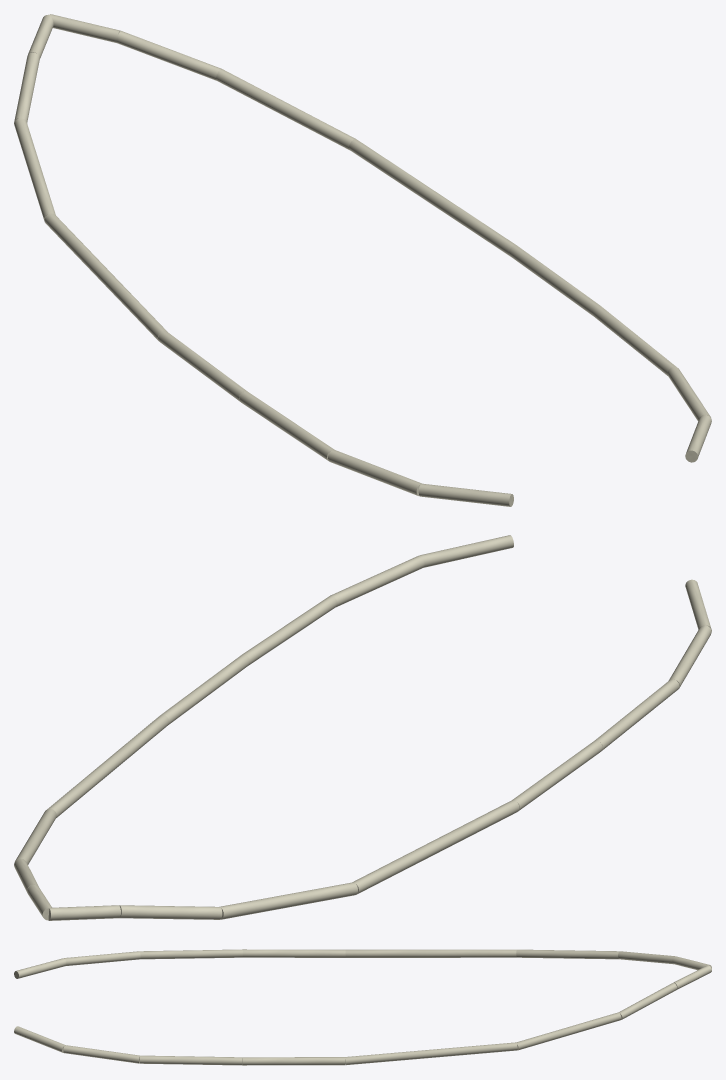
Rendered from Boat_Gunwale.glb.
3 renders of one model, top to bottom at view 1: azimuth 30°, elevation 25°; view 2: azimuth 150°, elevation 25°; view 3: azimuth 270°, elevation 25°, orthographic. The views are drawn at different scales.
Visible parts, largest first — view 1: Boat_Gunwale; view 2: Boat_Gunwale; view 3: Boat_Gunwale.
Boxes of the visible parts, x1,y1,x2,y2 form: Boat_Gunwale: (14, 14, 711, 506); Boat_Gunwale: (14, 535, 711, 920); Boat_Gunwale: (14, 949, 711, 1065).
Size of the model in its own units: 3.84 by 0.7397 by 10.18.
Materials: 1 (1 with a texture image).
